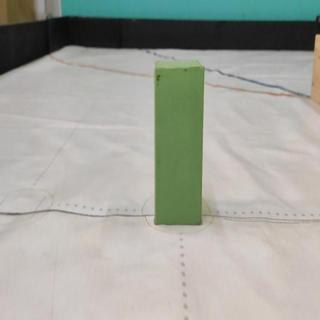greenbox: (155, 61, 203, 225)
